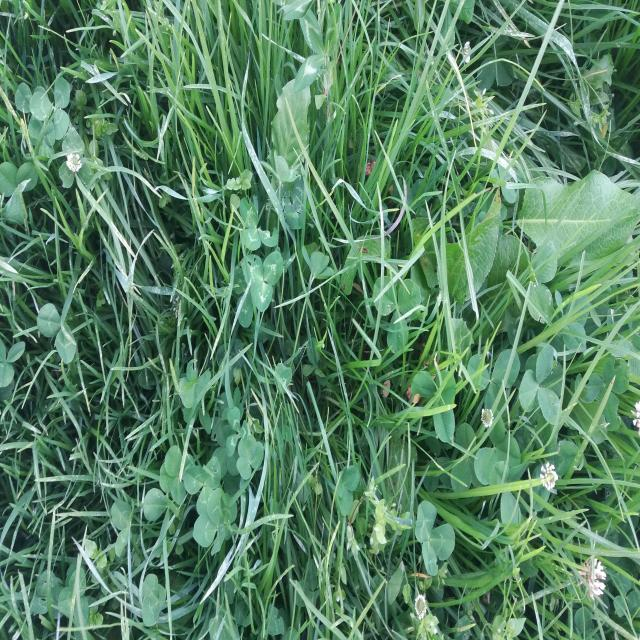Four Leaf Clover: (140, 253, 200, 335), (303, 298, 352, 364), (327, 368, 373, 438), (159, 445, 195, 504)
